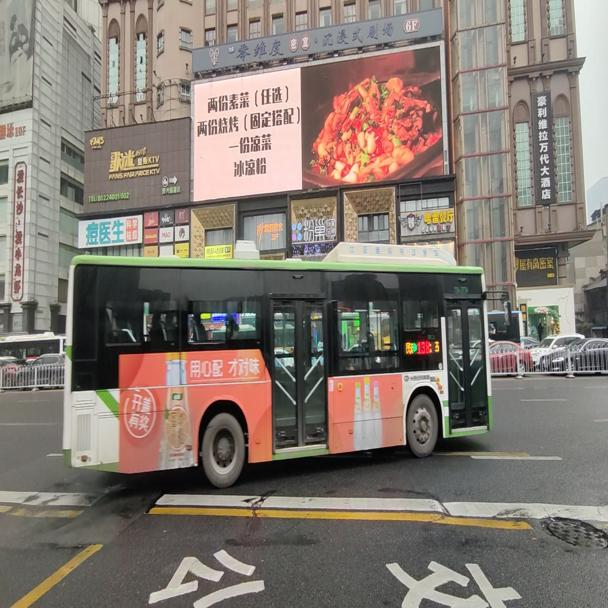bus: (59, 235, 513, 488)
screen: (416, 340, 429, 354)
